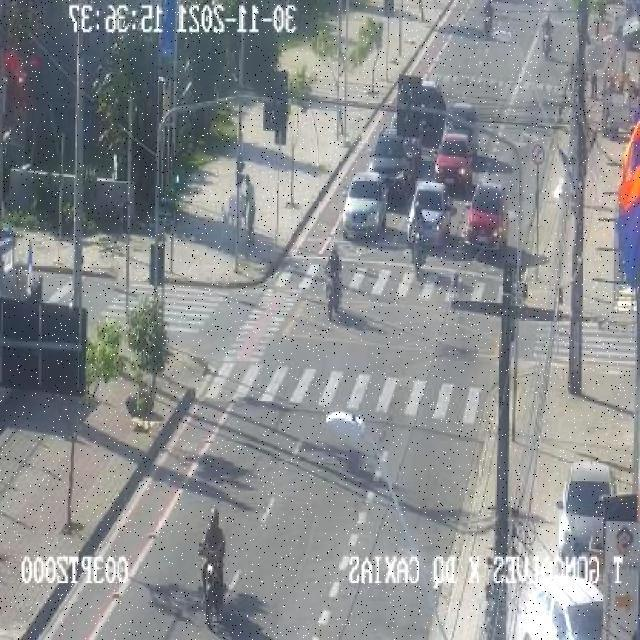Car: (511, 574, 605, 638), (556, 461, 618, 558), (406, 180, 455, 256), (366, 130, 416, 202), (458, 186, 514, 250), (395, 76, 446, 144), (341, 172, 388, 240), (434, 125, 477, 193)
Cycle: (193, 503, 235, 619), (325, 242, 351, 314)
